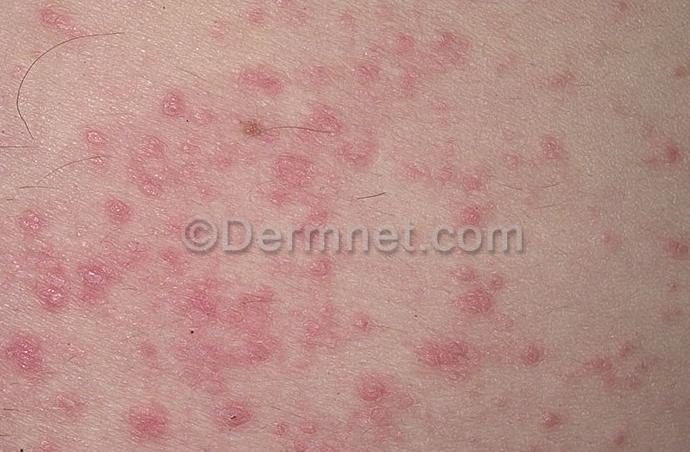eritema 1: (2, 27, 547, 452)
